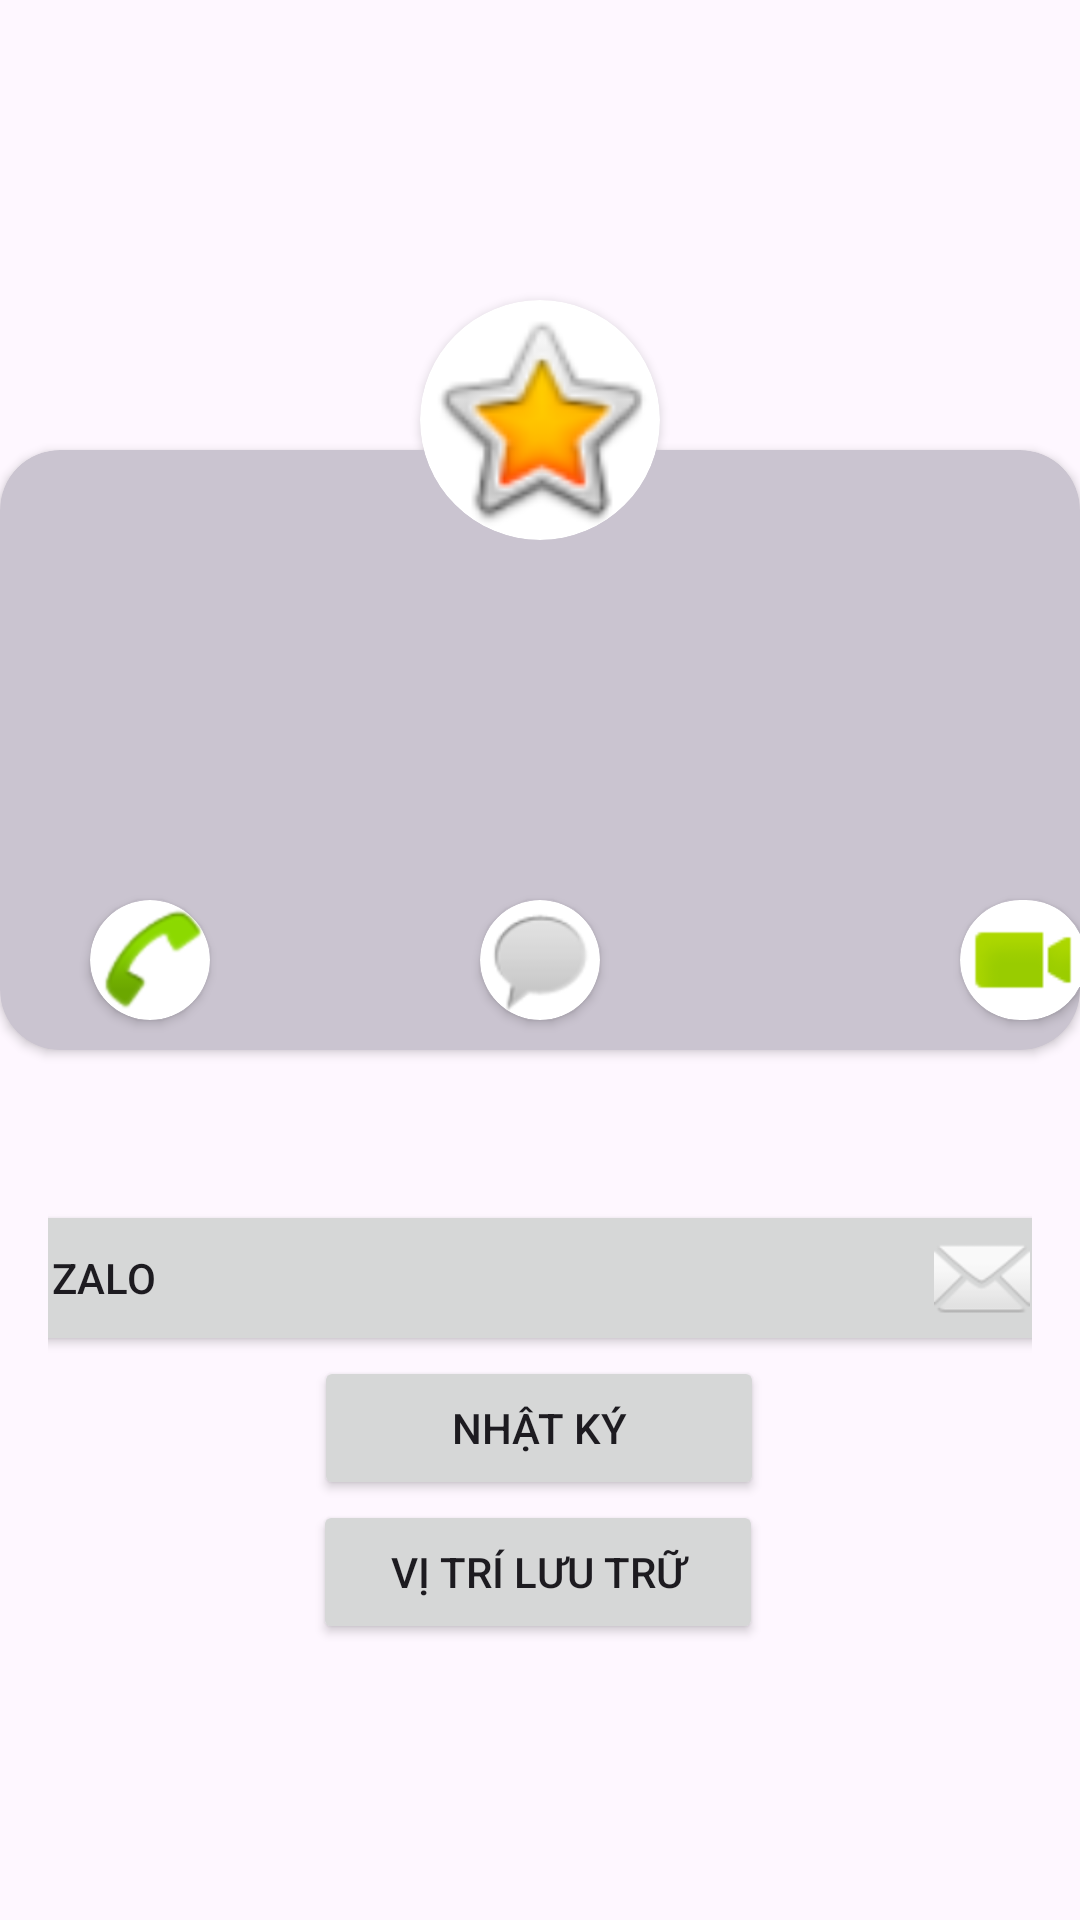

Where to tap for icons on this 1080px x 1920px app screen, as (x=x, y=y):
presence video online: (x=1020, y=960)
star on: (x=540, y=420)
sym action call: (x=150, y=960)
sym action chat: (x=540, y=960)
